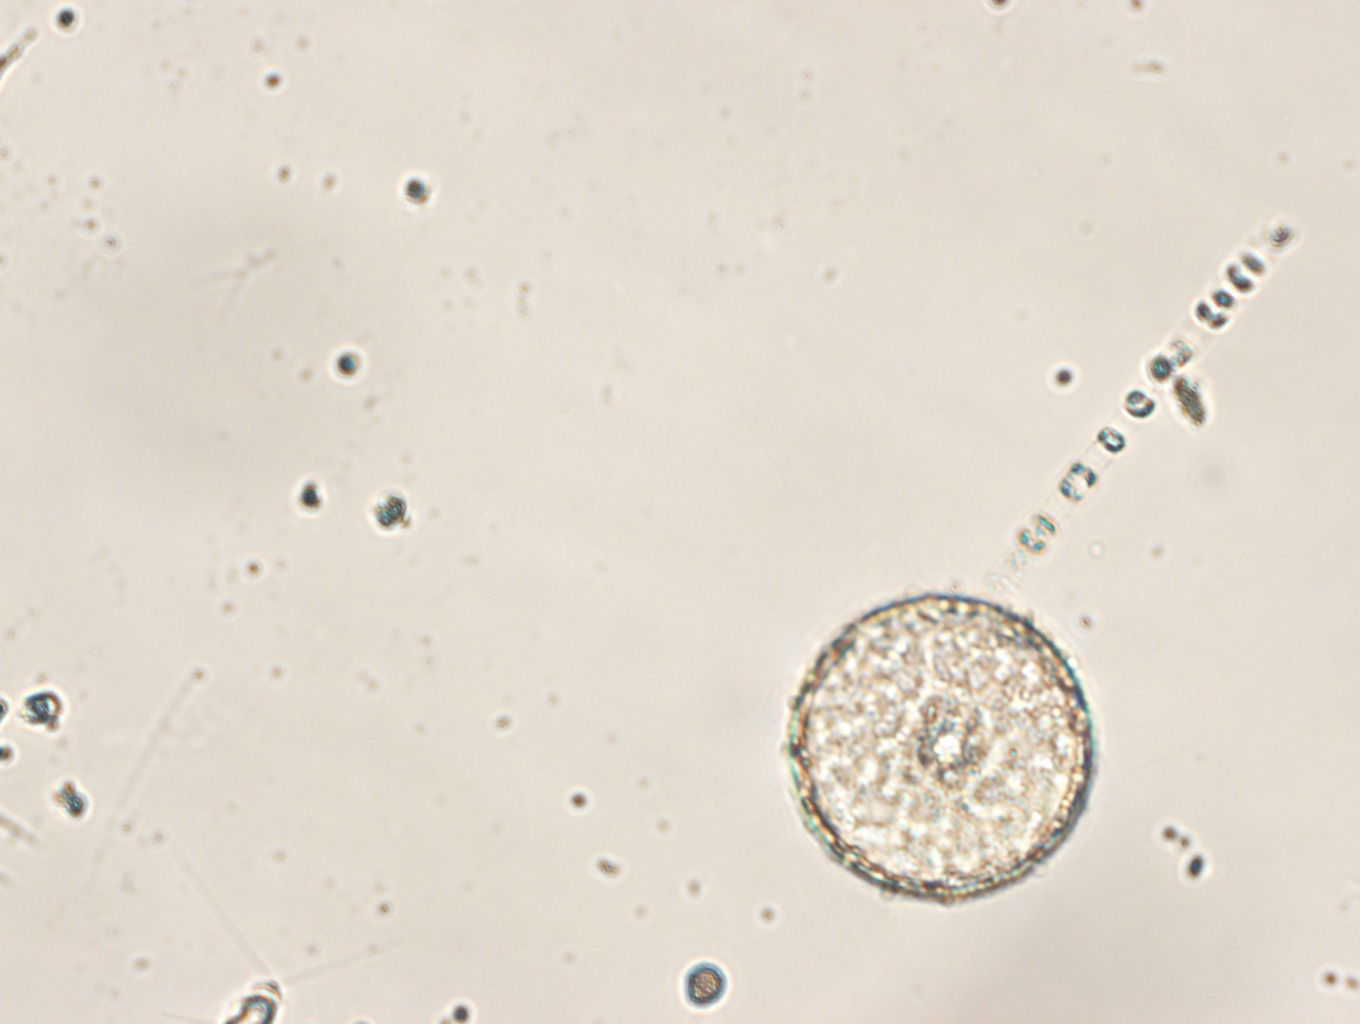coscinodiscus: (787, 592, 1094, 905)
skeletonema: (1008, 224, 1297, 575)
